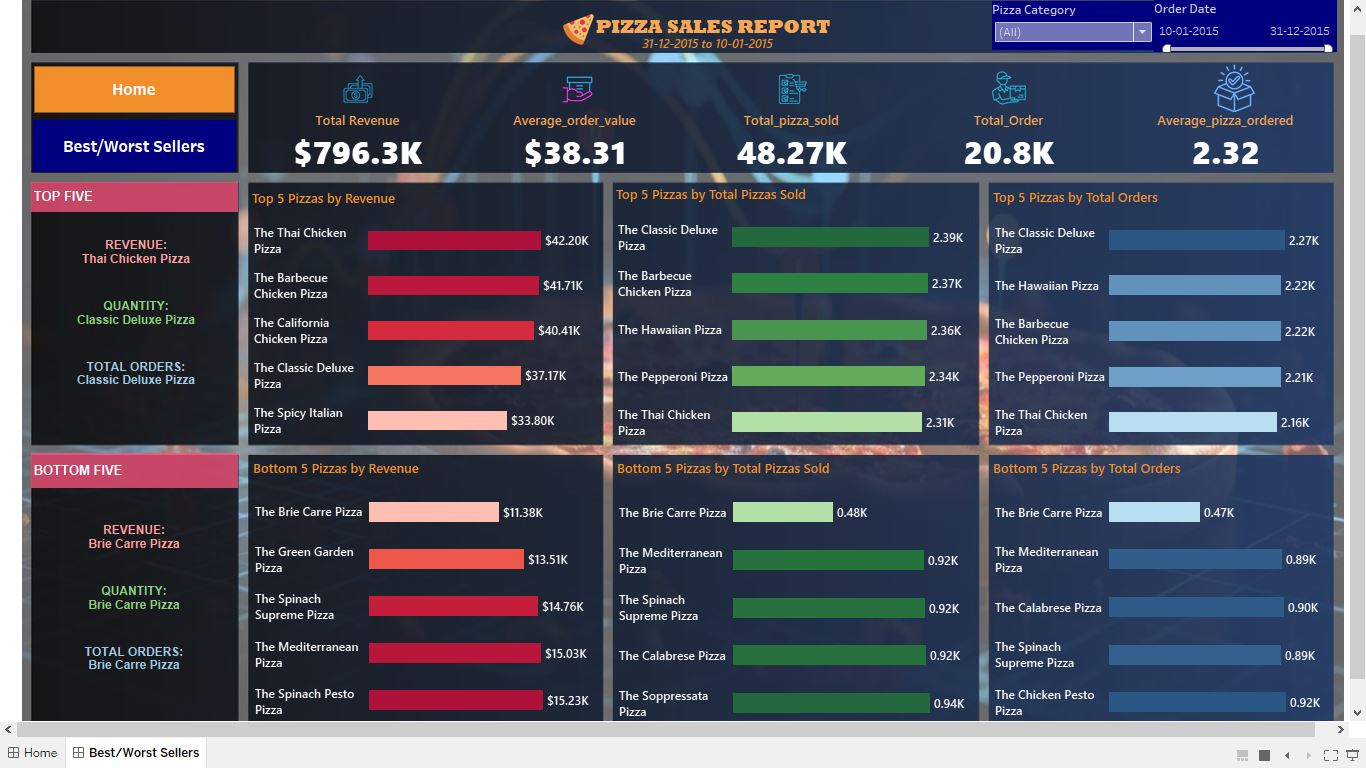

What the dashboard file says about the page in this screenshot:
{"tool":"tableau","page":{"name":"Best/Worst Sellers","canvas":[1366,768],"ordinal":0},"visuals":[{"type":"image","param":"C:/Users/lenovo/Downloads/Pizza Tableau 2.jpg","box":[8,8,1350,752]},{"type":"filter","title":"Date Range","param":"[federated.01mb5md1ai3h161djufym1tlbrdc].[none:order_date:qk]","box":[1154,20,183,52]},{"type":"filter","title":"Date Range","param":"[federated.01mb5md1ai3h161djufym1tlbrdc].[none:pizza_category:nk]","box":[992,21,163,49]},{"type":"text","box":[592.5,29.9,245,33.3]},{"type":"image","param":"D:/Projects/Tableau_files/Pizza Sales Images-20231103T185227Z-001/Pizza Sales Im","box":[557.5,33.3,40.1,31.6]},{"type":"worksheet","title":"Date Range","mark":"Automatic","box":[622,54,172,17]},{"type":"image","param":"D:/Projects/Tableau_files/Pizza Sales Images-20231103T185227Z-001/Pizza Sales Im","box":[1208.1,84.5,52.9,47.8]},{"type":"dashboard-object","box":[34,86,201,47]},{"type":"image","param":"D:/Projects/Tableau_files/Pizza Sales Images-20231103T185227Z-001/Pizza Sales Im","box":[985.2,89.6,47,35]},{"type":"image","param":"D:/Projects/Tableau_files/Pizza Sales Images-20231103T185227Z-001/Pizza Sales Im","box":[330.4,92.2,56.3,33.3]},{"type":"image","param":"D:/Projects/Tableau_files/Pizza Sales Images-20231103T185227Z-001/Pizza Sales Im","box":[546.4,92.2,63.2,34.1]},{"type":"image","param":"D:/Projects/Tableau_files/Pizza Sales Images-20231103T185227Z-001/Pizza Sales Im","box":[762.4,93,61.5,30.7]},{"type":"worksheet","title":"KPI","mark":"Automatic","box":[249.3,129.7,1085.1,61.4]},{"type":"dashboard-object","box":[33,140,203,52]},{"type":"worksheet","title":"Top 5 Pizzas by Total Pizzas Sold","mark":"Automatic","rows":["pizza_name"],"cols":["Calculation_358599138551529475"],"box":[612,201,366,264]},{"type":"text","box":[31,202,207,30]},{"type":"worksheet","title":"Top 5 Pizzas by Total Orders","mark":"Automatic","rows":["pizza_name"],"cols":["Calculation_358599138550870017"],"box":[989,204,344,261]},{"type":"worksheet","title":"Top 5 Pizzas by Revenue","mark":"Automatic","rows":["pizza_name"],"cols":["Calculation_358599138550628352"],"box":[248,205,354,258]},{"type":"text","box":[30,231,212,224]},{"type":"text","box":[31,473,207,35]},{"type":"worksheet","title":"Bottom 5 Pizzas by Revenue","mark":"Automatic","rows":["pizza_name"],"cols":["Calculation_358599138550628352"],"box":[249,475,353,270]},{"type":"worksheet","title":"Bottom 5 Pizzas by Total Pizzas Sold","mark":"Automatic","rows":["pizza_name"],"cols":["Calculation_358599138551529475"],"box":[613,475,366,272]},{"type":"worksheet","title":"Bottom 5 Pizzas by Total Orders","mark":"Automatic","rows":["pizza_name"],"cols":["Calculation_358599138550870017"],"box":[989,475,345,271]},{"type":"text","box":[31,509,206,238]}]}

Visuals, with their boxes on the page's 1366x768 design canvas (x1, y1, x2, y2). These are canvas units, not pixel positions in the 1366x768 screenshot, which may show the page scaled, cropped or inside an application window:
image: left=8, top=8, right=1358, bottom=760
"Date Range" filter: left=1154, top=20, right=1337, bottom=72
"Date Range" filter: left=992, top=21, right=1155, bottom=70
text: left=592, top=30, right=838, bottom=63
image: left=558, top=33, right=598, bottom=65
"Date Range" worksheet: left=622, top=54, right=794, bottom=71
image: left=1208, top=84, right=1261, bottom=132
dashboard-object: left=34, top=86, right=235, bottom=133
image: left=985, top=90, right=1032, bottom=125
image: left=330, top=92, right=387, bottom=126
image: left=546, top=92, right=610, bottom=126
image: left=762, top=93, right=824, bottom=124
"KPI" worksheet: left=249, top=130, right=1334, bottom=191
dashboard-object: left=33, top=140, right=236, bottom=192
"Top 5 Pizzas by Total Pizzas Sold" worksheet: left=612, top=201, right=978, bottom=465
text: left=31, top=202, right=238, bottom=232
"Top 5 Pizzas by Total Orders" worksheet: left=989, top=204, right=1333, bottom=465
"Top 5 Pizzas by Revenue" worksheet: left=248, top=205, right=602, bottom=463
text: left=30, top=231, right=242, bottom=455
text: left=31, top=473, right=238, bottom=508
"Bottom 5 Pizzas by Revenue" worksheet: left=249, top=475, right=602, bottom=745
"Bottom 5 Pizzas by Total Pizzas Sold" worksheet: left=613, top=475, right=979, bottom=747
"Bottom 5 Pizzas by Total Orders" worksheet: left=989, top=475, right=1334, bottom=746
text: left=31, top=509, right=237, bottom=747
